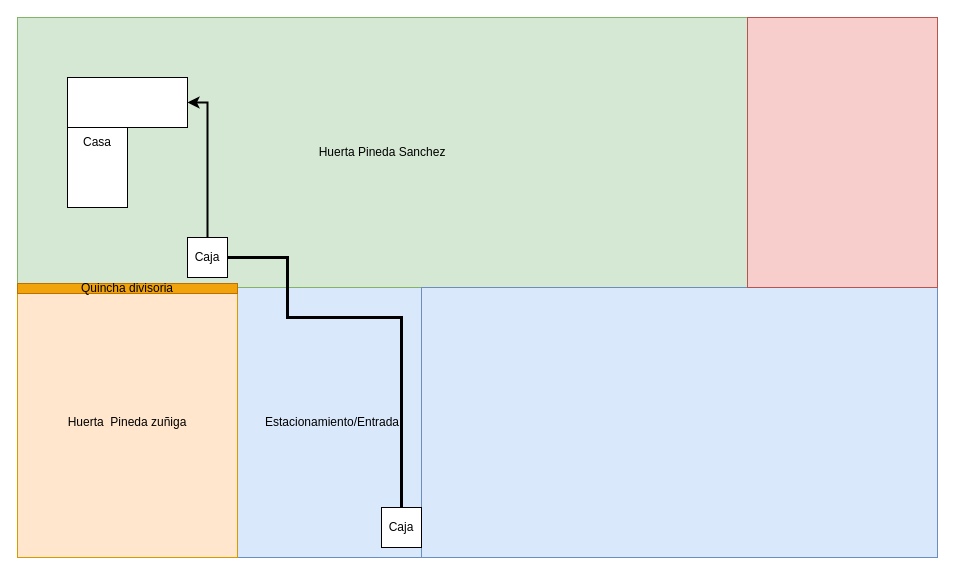
Image size: 955x575. Some labels were removed from this diagram. The centre of each missing label's shape, as x and y in pixels:
"Huerta de Armencia" belongs at (x=679, y=422).
"Negro ramos" belongs at (x=842, y=152).
